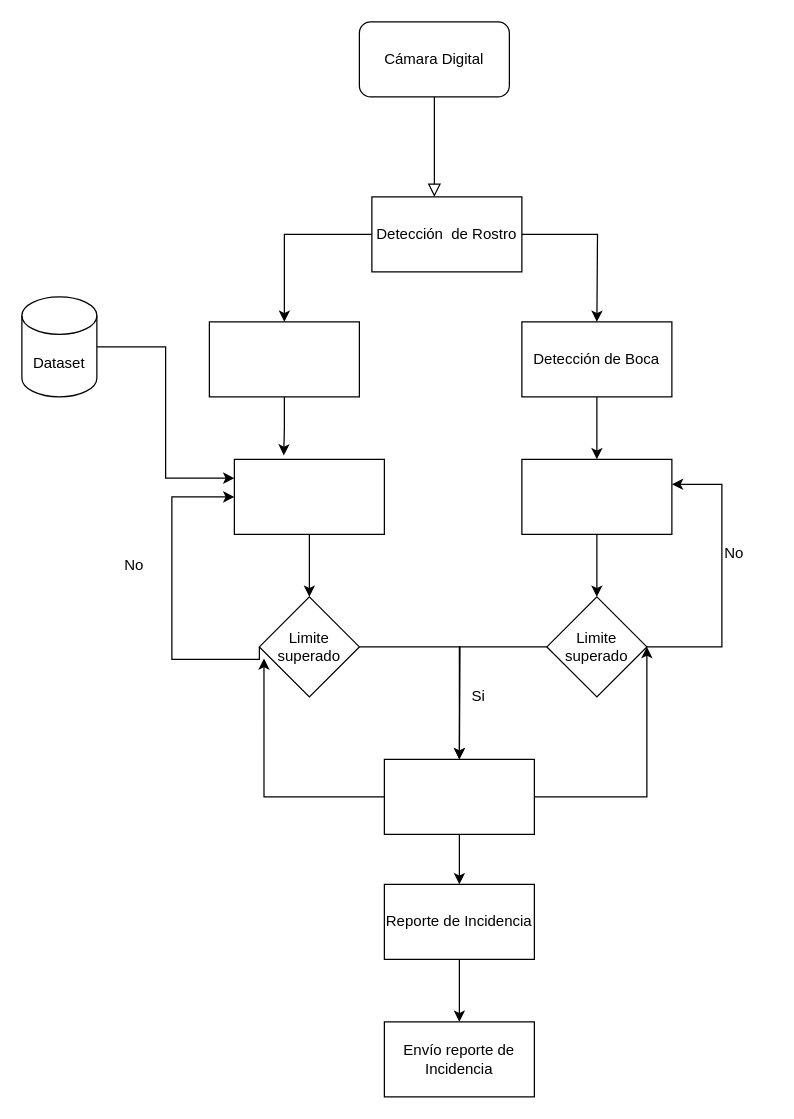
The diagram is 794 pixels wide and 1119 high, and some of its shapes have lost their labels. Here are the shapes that lost their labels. From the top down, the centre of each, then its label:
point (283, 359): Detección de Ojos
point (308, 496): Modelo de Red Neuronal Convolucional
point (596, 496): MOR
point (458, 796): Alerta
